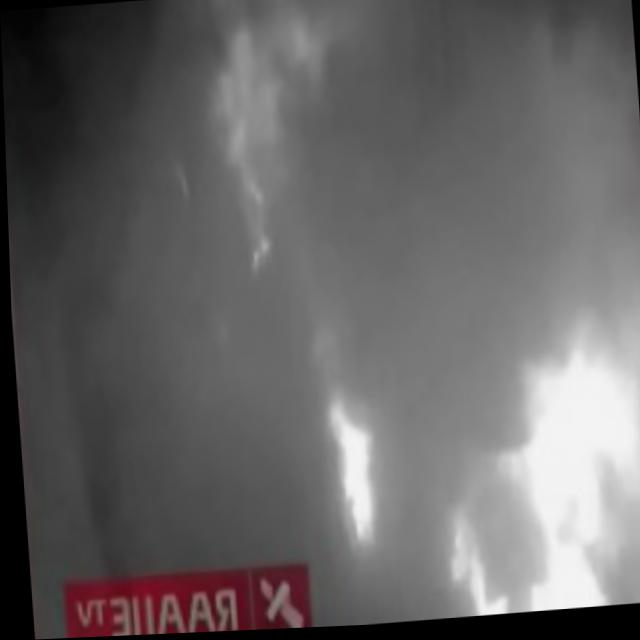fire: (227, 35, 280, 249), (534, 361, 639, 461), (532, 459, 593, 611), (336, 398, 373, 540), (463, 559, 482, 602), (478, 606, 498, 619)
smoke: (0, 0, 232, 531), (316, 0, 639, 369), (272, 0, 340, 383), (230, 280, 309, 567), (368, 364, 447, 626), (24, 525, 240, 582), (439, 360, 513, 452), (315, 557, 380, 629), (488, 504, 528, 586), (613, 505, 639, 611)
